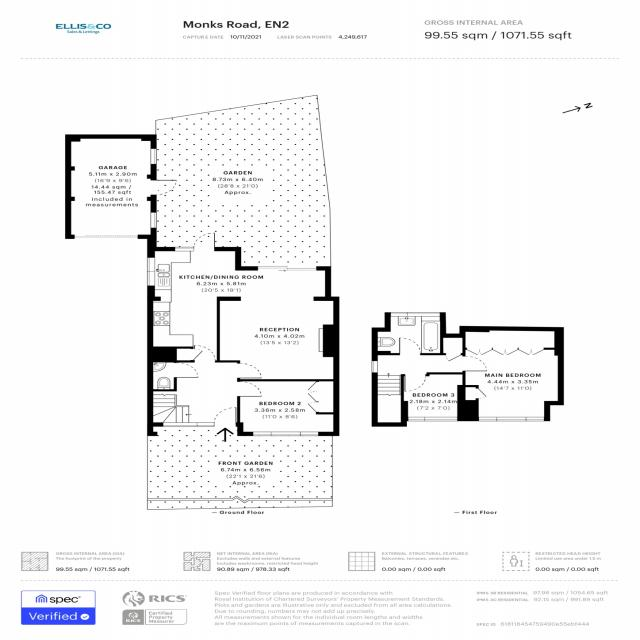DOOR: (213, 407, 237, 426), (236, 362, 262, 379), (173, 362, 199, 379), (462, 356, 488, 372), (398, 337, 421, 355), (237, 381, 262, 397), (194, 232, 215, 251), (404, 374, 426, 392), (193, 345, 216, 362)
ROOM: (147, 232, 340, 382), (457, 326, 564, 421), (237, 379, 340, 436), (401, 372, 466, 421)
SLIDING DOOR: (257, 266, 319, 271)
WINDOW: (478, 416, 545, 422), (252, 431, 319, 436), (390, 312, 441, 317), (147, 257, 155, 286), (408, 417, 458, 421), (371, 361, 378, 373), (175, 247, 194, 251)
